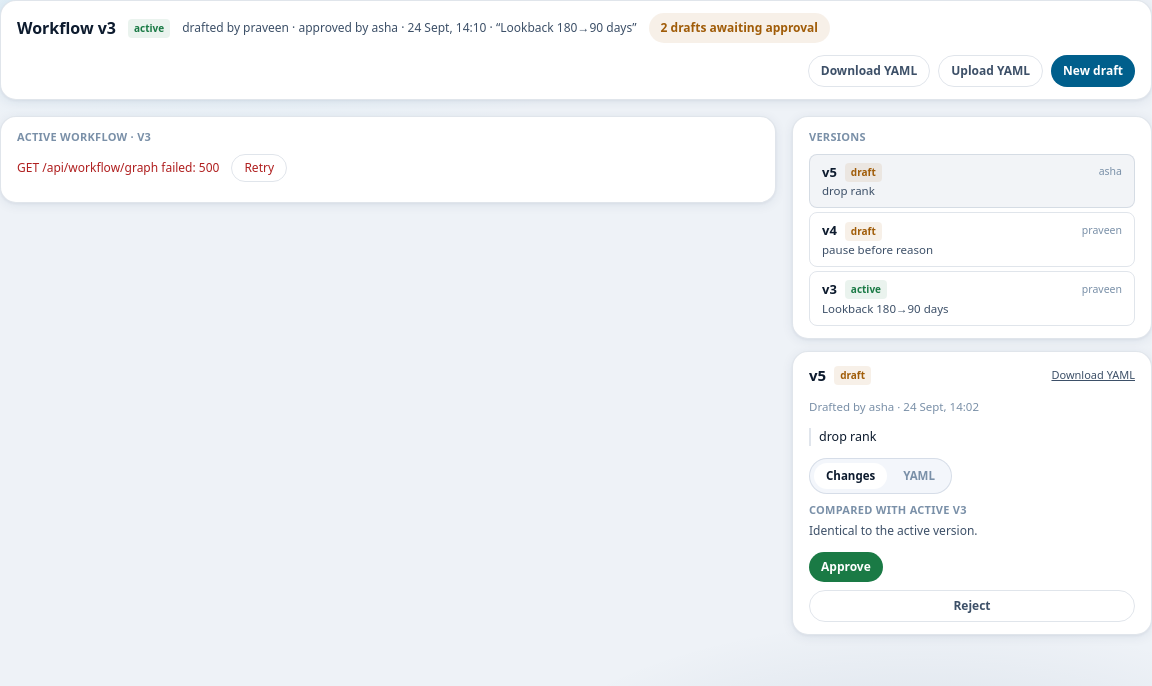
Test: WorkflowView › shows an error with retry when the graph fails to load, while the rest of the tab still works
Expected: the text "GET /api/workflow/graph failed: 500" is shown, top-left (17, 158), bottom-right (219, 176)
Expected: the text "Workflow v3" is shown, top-left (17, 16), bottom-right (116, 40)
Click the button "Retry" at [259, 168], box top-left (231, 154), bottom-right (287, 182)
(page scrolled)
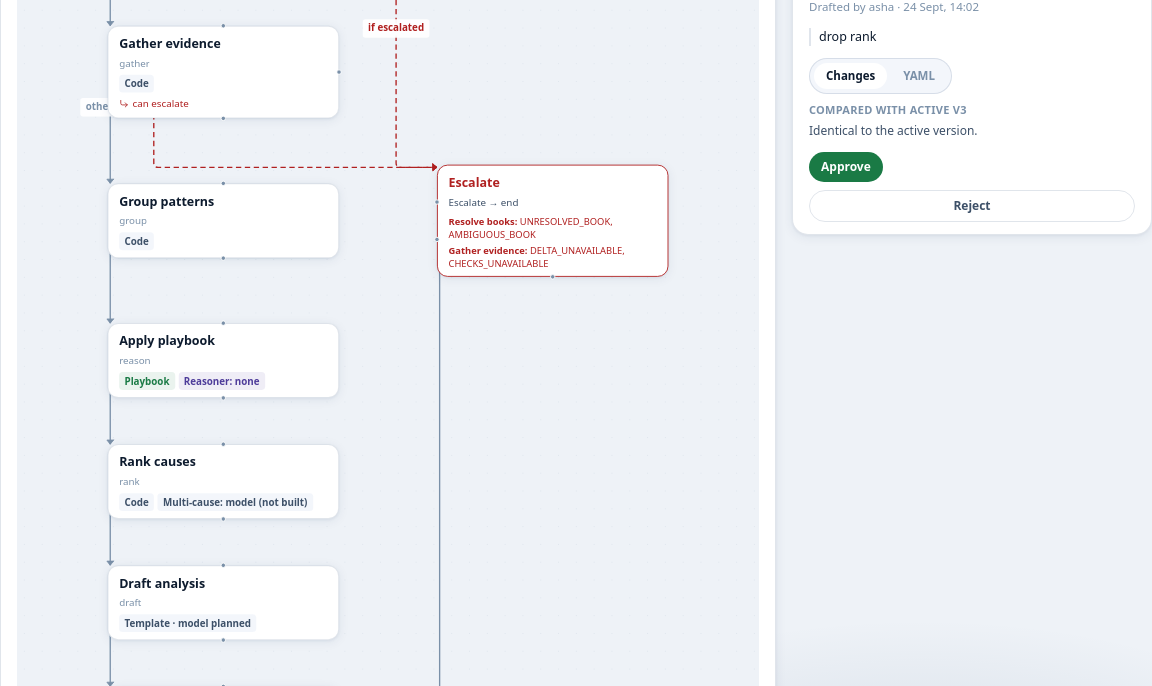
Expected: the button with aria-label "Open Apply playbook" is shown, top-left (108, 323), bottom-right (339, 397)
